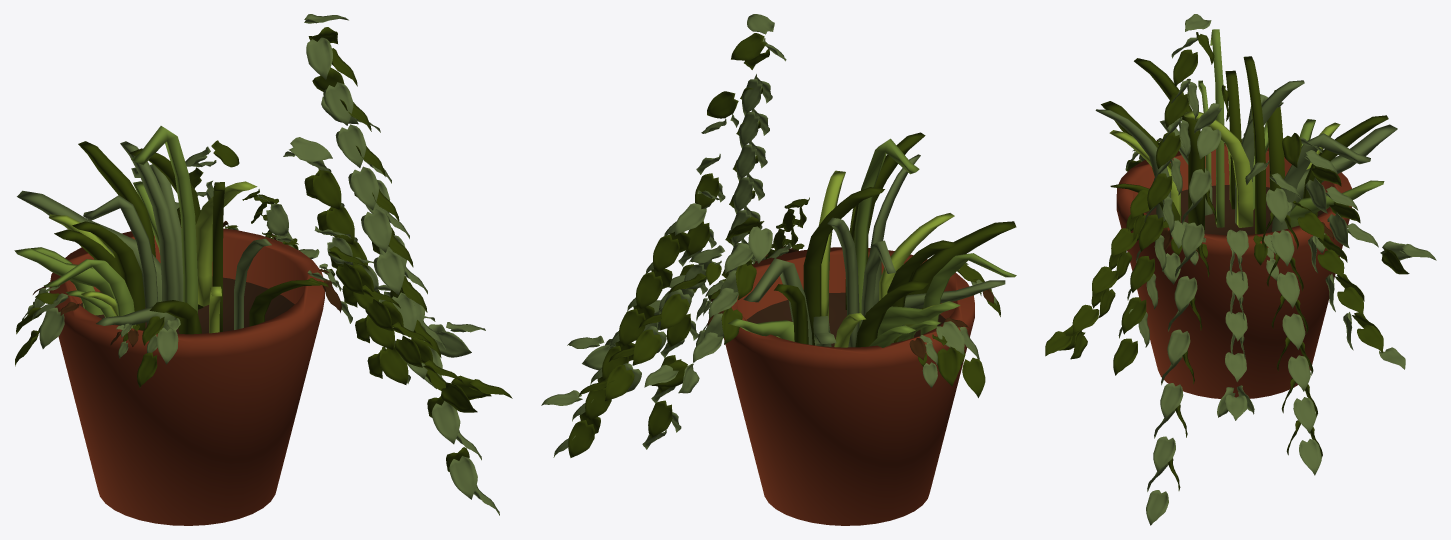
File: 6_Plant.fbx
3 renders of one model, left to right at view 1: azimuth 30°, elevation 25°; view 2: azimuth 150°, elevation 25°; view 3: azimuth 270°, elevation 25°, orthographic. The views are drawn at different scales.
Visible parts, largest first — view 1: overHangingPlant Ceramic; view 2: overHangingPlant Ceramic; view 3: overHangingPlant Ceramic.
Part boxes in pixels (left/top/right/bottom): overHangingPlant Ceramic: left=14, top=14, right=512, bottom=525; overHangingPlant Ceramic: left=541, top=14, right=1016, bottom=525; overHangingPlant Ceramic: left=1045, top=14, right=1436, bottom=525.
Bounding box in the file's own units: 73.54 × 78.75 × 62.97.
